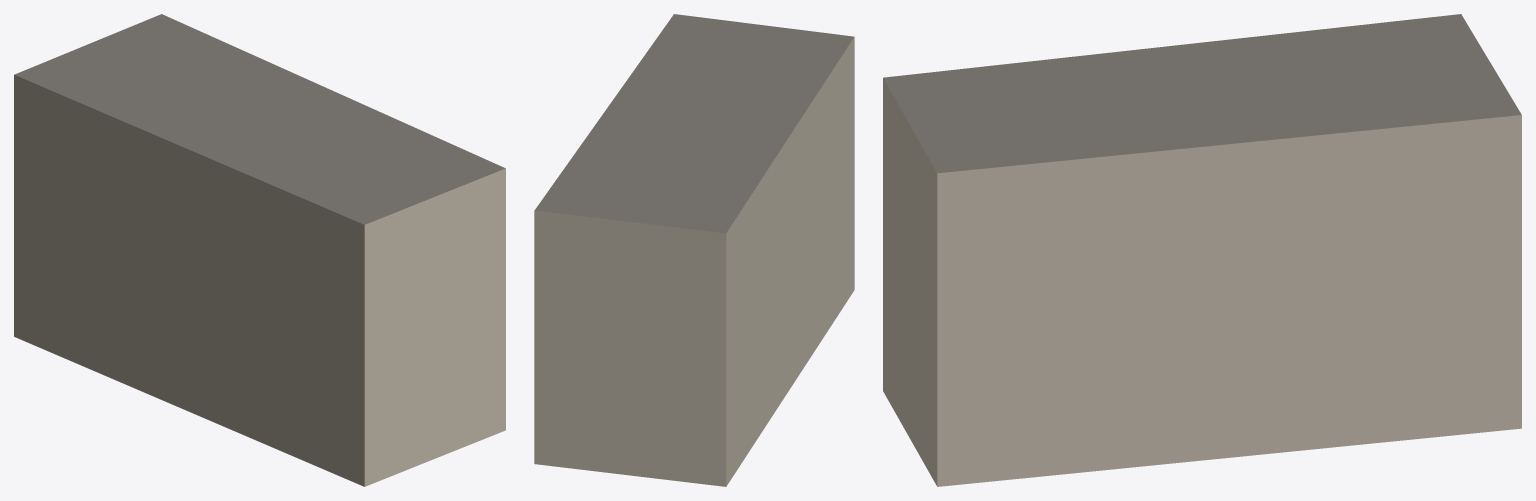
The picture shows the model from 3 angles, left to right: view 1: azimuth 30°, elevation 25°; view 2: azimuth 150°, elevation 25°; view 3: azimuth 270°, elevation 25°; orthographic projection. The views are drawn at different scales.
Visible parts, largest first — view 1: HP-w303313597; view 2: HP-w303313597; view 3: HP-w303313597.
Boxes of the visible parts, x1=… form: HP-w303313597: x1=14, y1=14, x2=505, y2=486; HP-w303313597: x1=534, y1=14, x2=854, y2=486; HP-w303313597: x1=883, y1=14, x2=1521, y2=486.
Size of the model in its own units: 16.34 by 15 by 27.69.
